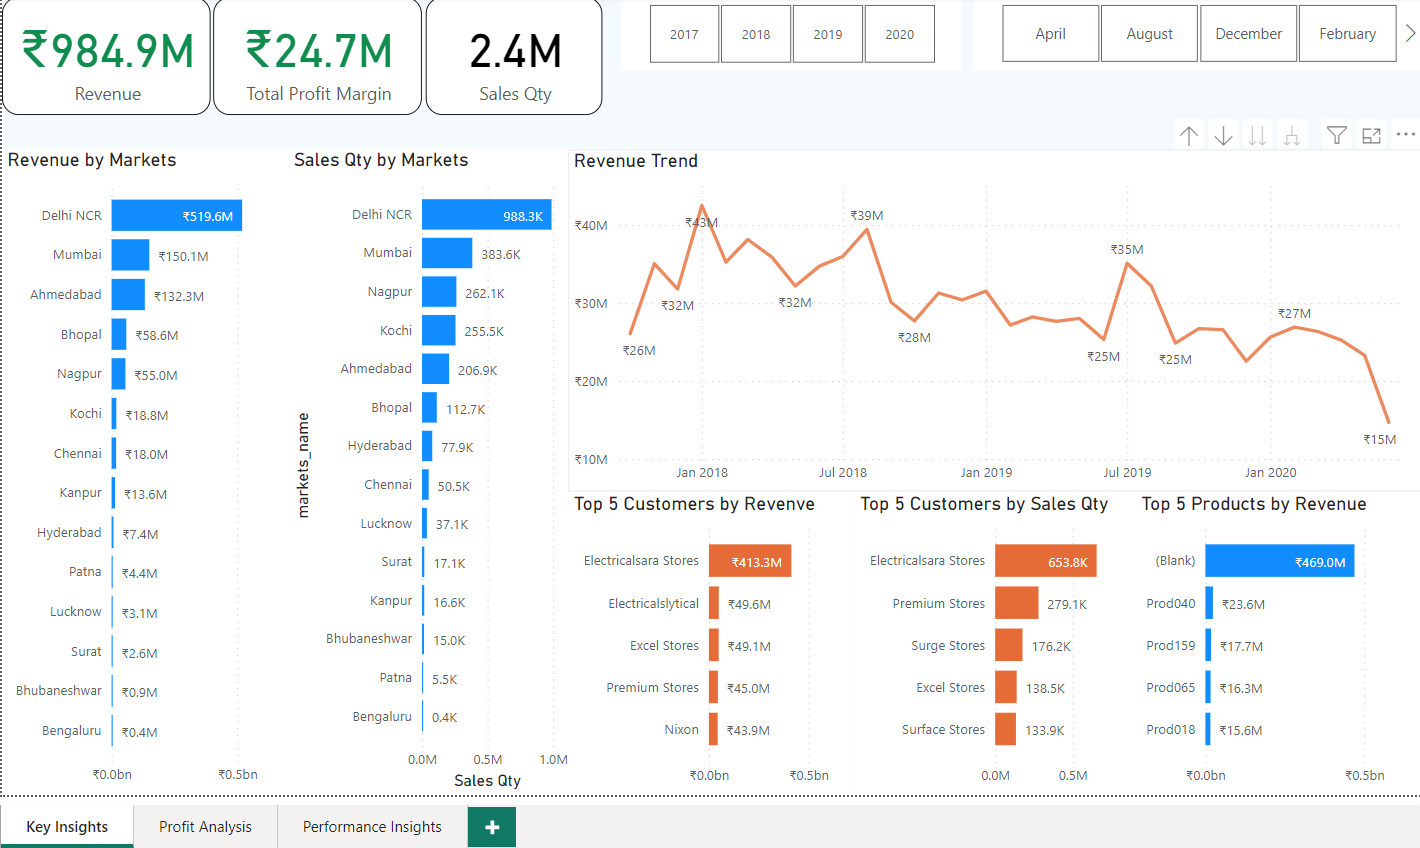

The page's visual inventory and layout, read from the dashboard file:
{"tool":"powerbi","page":{"name":"Key Insights","canvas":[1280,720],"ordinal":0},"visuals":[{"type":"card","fields":{"Values":["Base Measures.Revenue"]},"box":[0,0,188.2,106.6],"z":0},{"type":"card","fields":{"Values":["Base Measures.Sales Qty"]},"box":[381.6,0,159.2,106.6],"z":1000},{"type":"barChart","title":"Revenue by Markets","fields":{"Category":["sales markets.markets_name"],"Y":["Base Measures.Revenue"]},"box":[0,136.8,257.9,582.9],"z":2000},{"type":"barChart","title":"Sales Qty by Markets","fields":{"Category":["sales markets.markets_name"],"Y":["Base Measures.Sales Qty"]},"box":[257.9,136.8,257.9,582.9],"z":3000},{"type":"slicer","fields":{"Values":["sales date.year"]},"box":[557.4,0,306.8,66],"z":4000},{"type":"slicer","fields":{"Values":["sales date.month_name"]},"box":[875,0,405.3,65.8],"z":5000},{"type":"barChart","title":"Top 5 Customers by Revenve","fields":{"Category":["sales customers.custmer_name"],"Y":["Base Measures.Revenue"]},"box":[510.5,446.1,257.9,273.7],"z":6000},{"type":"barChart","title":"Top 5 Customers by Sales Qty","fields":{"Category":["sales customers.custmer_name"],"Y":["Base Measures.Sales Qty"]},"box":[768.4,446.1,257.9,273.7],"z":7000},{"type":"barChart","title":"Top 5 Products by Revenue","fields":{"Y":["Base Measures.Revenue"],"Category":["sales products.product_code"]},"box":[1022.4,446.1,257.9,273.7],"z":8000},{"type":"lineChart","title":"Revenue Trend","fields":{"Y":["Base Measures.Revenue"],"Category":["sales date.cy_date.Variation.Date Hierarchy.Year","sales date.cy_date.Variation.Date Hierarchy.Quarter","sales date.cy_date.Variation.Date Hierarchy.Month","sales date.cy_date.Variation.Date Hierarchy.Day"]},"box":[511,136.9,768.9,309.3],"z":9000},{"type":"card","fields":{"Values":["Base Measures.Total Profit Margin"]},"box":[190.8,0,188.2,106.6],"z":10000}]}

Visuals, with their boxes on the page's 1280x720 design canvas (x1, y1, x2, y2). These are canvas units, not pixel positions in the 1420x848 screenshot, which may show the page scaled, cropped or inside an application window:
card - Base Measures.Revenue: pyautogui.locateOnScreen(0, 0, 188, 107)
card - Base Measures.Sales Qty: pyautogui.locateOnScreen(382, 0, 541, 107)
"Revenue by Markets" barChart: pyautogui.locateOnScreen(0, 137, 258, 720)
"Sales Qty by Markets" barChart: pyautogui.locateOnScreen(258, 137, 516, 720)
slicer - sales date.year: pyautogui.locateOnScreen(557, 0, 864, 66)
slicer - sales date.month_name: pyautogui.locateOnScreen(875, 0, 1280, 66)
"Top 5 Customers by Revenve" barChart: pyautogui.locateOnScreen(510, 446, 768, 720)
"Top 5 Customers by Sales Qty" barChart: pyautogui.locateOnScreen(768, 446, 1026, 720)
"Top 5 Products by Revenue" barChart: pyautogui.locateOnScreen(1022, 446, 1280, 720)
"Revenue Trend" lineChart: pyautogui.locateOnScreen(511, 137, 1280, 446)
card - Base Measures.Total Profit Margin: pyautogui.locateOnScreen(191, 0, 379, 107)
